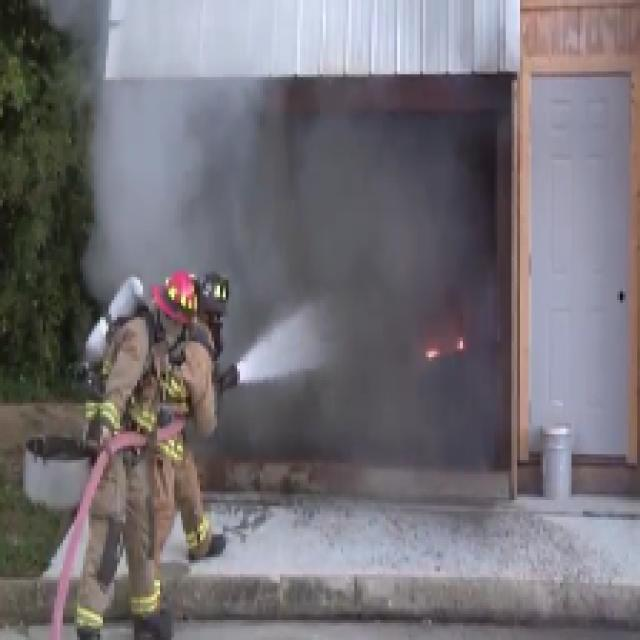smoke: (84, 66, 235, 304), (314, 104, 457, 265)
